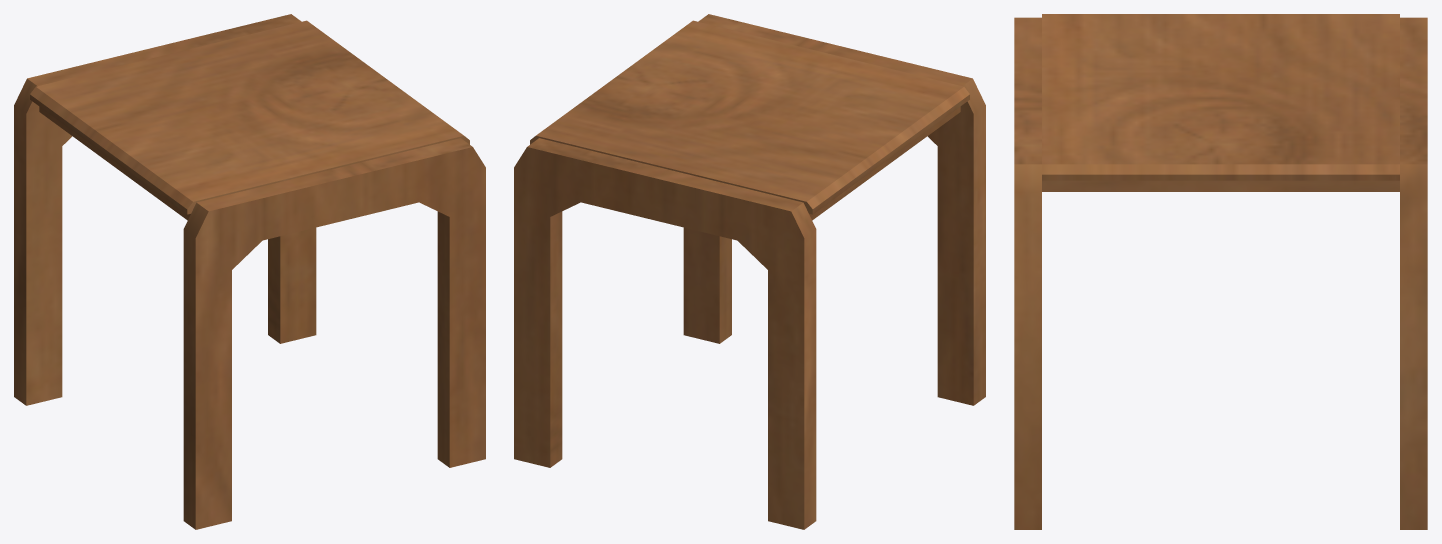
The model's file is stool_3.FBX.
3 renders of one model, left to right at view 1: azimuth 30°, elevation 25°; view 2: azimuth 150°, elevation 25°; view 3: azimuth 270°, elevation 25°, orthographic. The views are drawn at different scales.
Parts seen in each view (by area): view 1: stool_3; view 2: stool_3; view 3: stool_3.
Boxes of the visible parts, <box> form: stool_3: <box>14,14,485,529</box>; stool_3: <box>514,14,985,529</box>; stool_3: <box>1014,14,1427,529</box>.
Bounding box in the file's own units: 19.14 × 19.99 × 20.76.
